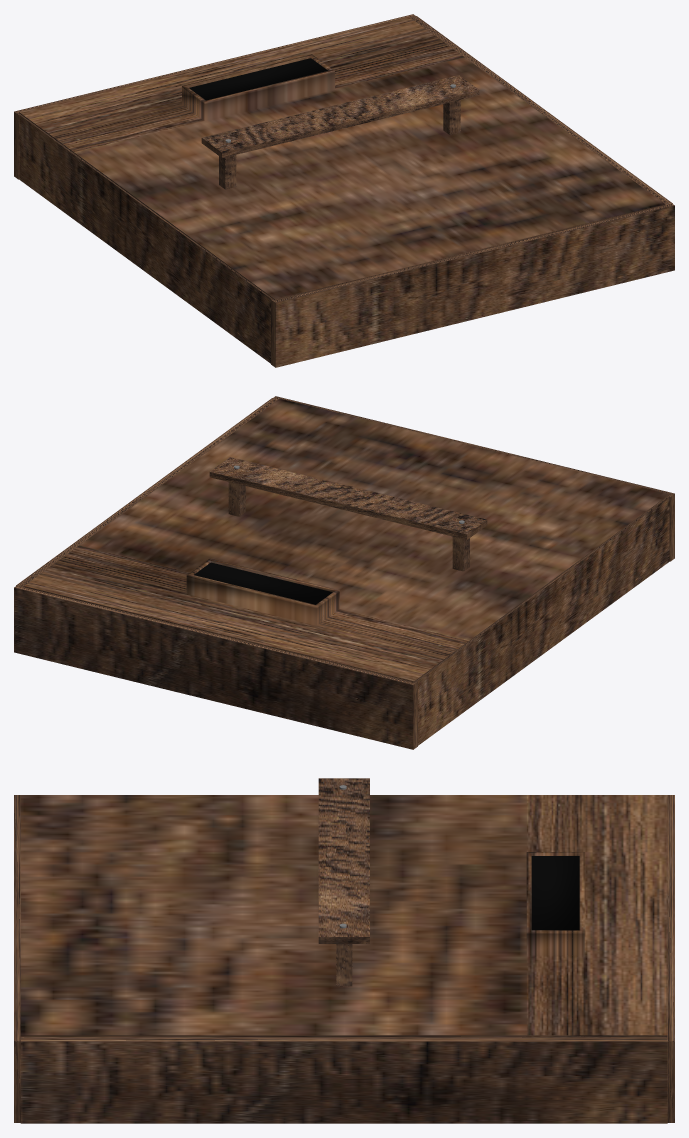
The model's file is bombe_haut.obj.
3 renders of one model, top to bottom at view 1: azimuth 30°, elevation 25°; view 2: azimuth 150°, elevation 25°; view 3: azimuth 270°, elevation 25°, orthographic. The views are drawn at different scales.
Visible parts, largest first — view 1: pCube6.001_Mesh.026, pCube4.001_Mesh.024, pCube2.001_Mesh.022, pCube9_Mesh.029, pCube3.001_Mesh.023, pCube5.001_Mesh.025, pCube8_Mesh.028, pCube7_Mesh.027; view 2: pCube6.001_Mesh.026, pCube5.001_Mesh.025, pCube2.001_Mesh.022, pCube9_Mesh.029, pCube3.001_Mesh.023, pCube4.001_Mesh.024, pCube8_Mesh.028, pCube7_Mesh.027; view 3: pCube6.001_Mesh.026, pCube3.001_Mesh.023, pCube9_Mesh.029, pCube5.001_Mesh.025, pCube4.001_Mesh.024, pCube7_Mesh.027.
Part boxes in pixels (x1,y1,x2,y2): pCube6.001_Mesh.026: [19, 17, 665, 300]; pCube4.001_Mesh.024: [271, 202, 674, 367]; pCube2.001_Mesh.022: [19, 114, 274, 363]; pCube9_Mesh.029: [201, 75, 479, 157]; pCube3.001_Mesh.023: [411, 16, 672, 203]; pCube5.001_Mesh.025: [14, 14, 415, 179]; pCube8_Mesh.028: [219, 155, 236, 189]; pCube7_Mesh.027: [443, 100, 460, 134]; pCube6.001_Mesh.026: [23, 398, 670, 682]; pCube5.001_Mesh.025: [14, 585, 417, 749]; pCube2.001_Mesh.022: [414, 495, 670, 745]; pCube9_Mesh.029: [209, 457, 487, 539]; pCube3.001_Mesh.023: [16, 398, 278, 586]; pCube4.001_Mesh.024: [273, 396, 674, 561]; pCube8_Mesh.028: [452, 536, 469, 571]; pCube7_Mesh.027: [228, 482, 245, 516]; pCube6.001_Mesh.026: [20, 795, 667, 1036]; pCube3.001_Mesh.023: [20, 1037, 667, 1123]; pCube9_Mesh.029: [318, 778, 369, 943]; pCube5.001_Mesh.025: [667, 795, 674, 1122]; pCube4.001_Mesh.024: [14, 795, 23, 1122]; pCube7_Mesh.027: [336, 944, 352, 986].
Bounding box in the file's own units: 0.5452 × 0.1458 × 0.6175.
3 materials, 1 textured.
